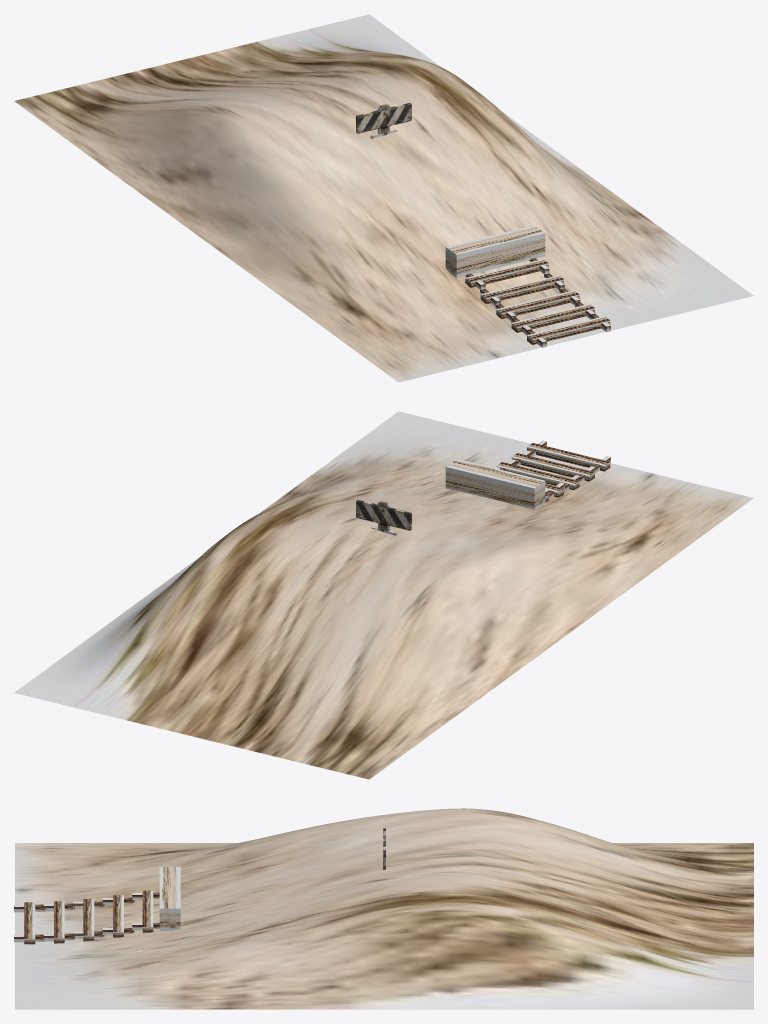
File: rail-props.glb
3 views of the same model, one above another, from view 1: azimuth 30°, elevation 25°; view 2: azimuth 150°, elevation 25°; view 3: azimuth 270°, elevation 25° (orthographic). The views are drawn at different scales.
Visible parts, largest first — view 1: sand-drag, sand-drag-sleepers, sand-drag-stop-block, brake-board, sand-drag-rails; view 2: sand-drag, sand-drag-stop-block, sand-drag-sleepers, brake-board; view 3: sand-drag, sand-drag-sleepers, sand-drag-rails, sand-drag-stop-block.
Part boxes in pixels (box(x1,y1,x2,y2)): sand-drag: box(14, 14, 753, 382); sand-drag-sleepers: box(465, 259, 610, 344); sand-drag-stop-block: box(445, 225, 545, 277); brake-board: box(356, 103, 411, 135); sand-drag-rails: box(465, 258, 610, 347); sand-drag: box(14, 411, 753, 779); sand-drag-stop-block: box(445, 459, 545, 509); sand-drag-sleepers: box(496, 443, 610, 502); brake-board: box(356, 500, 411, 532); sand-drag: box(15, 808, 753, 1009); sand-drag-sleepers: box(24, 890, 153, 944); sand-drag-rails: box(14, 893, 159, 942); sand-drag-stop-block: box(159, 867, 180, 930).
Bounding box in the file's own units: 8 × 2 × 15.02.
29 materials, 20 textured.
